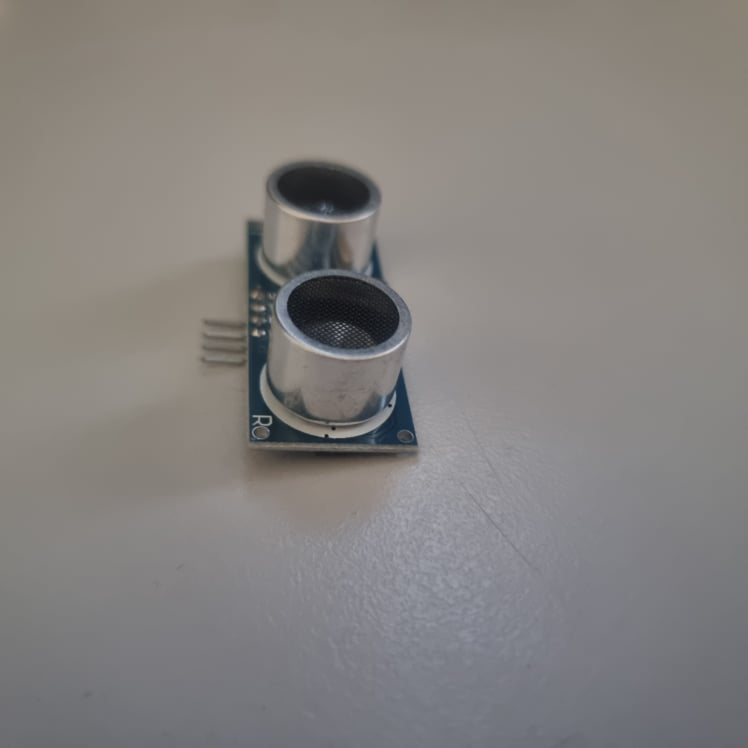SENSOR: (238, 158, 421, 453)
